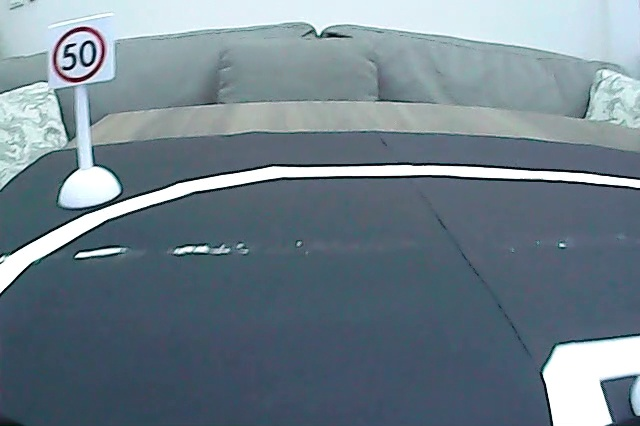speed limit 50: (50, 22, 107, 87)
